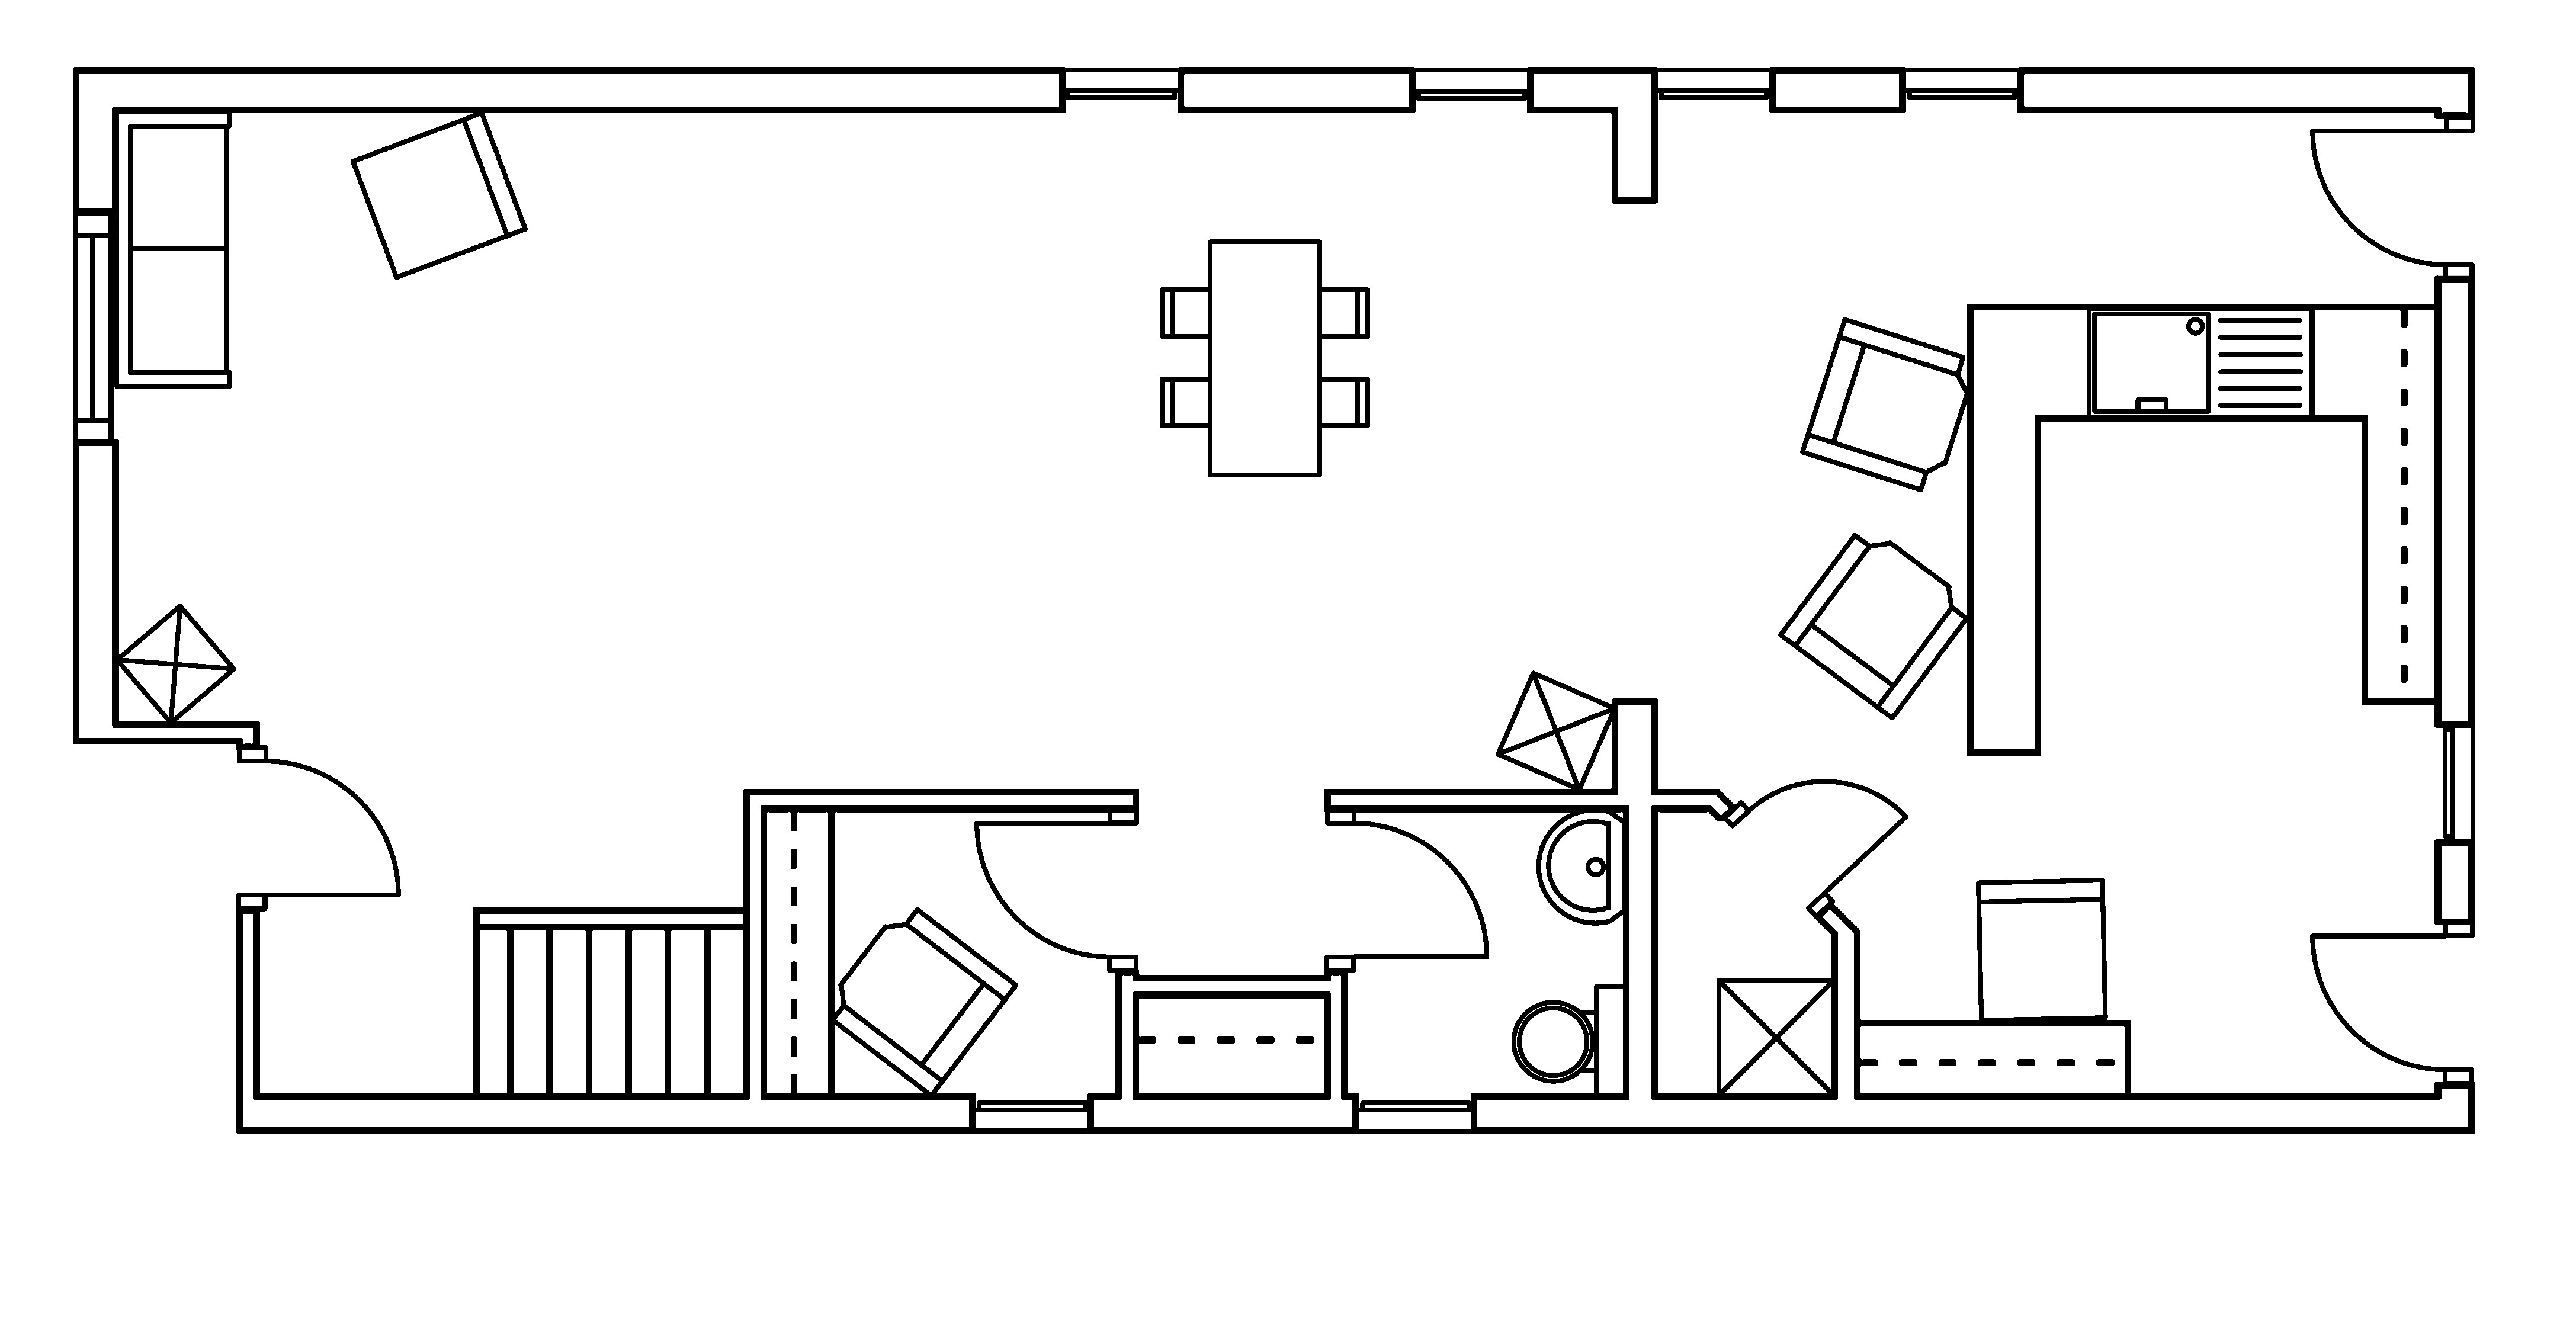armchair: (829, 905, 1019, 1099), (1777, 532, 1969, 720), (1799, 316, 1971, 493)
coffee_table: (1493, 670, 1618, 792), (113, 602, 237, 725), (1715, 976, 1836, 1099)
dining_table: (1159, 239, 1370, 478)
large_sink: (1512, 983, 1628, 1097)
large_sofa: (113, 108, 232, 389)
sink: (2085, 305, 2314, 421)
small_sink: (1535, 808, 1628, 925)
small_sofa: (350, 109, 528, 281), (1974, 877, 2109, 1023)
